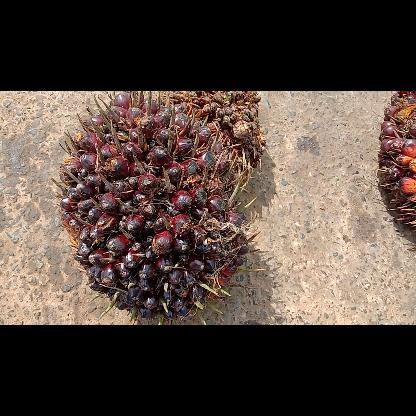Kurang masak: (51, 90, 265, 324)
TBS abnormal: (160, 90, 264, 170)
